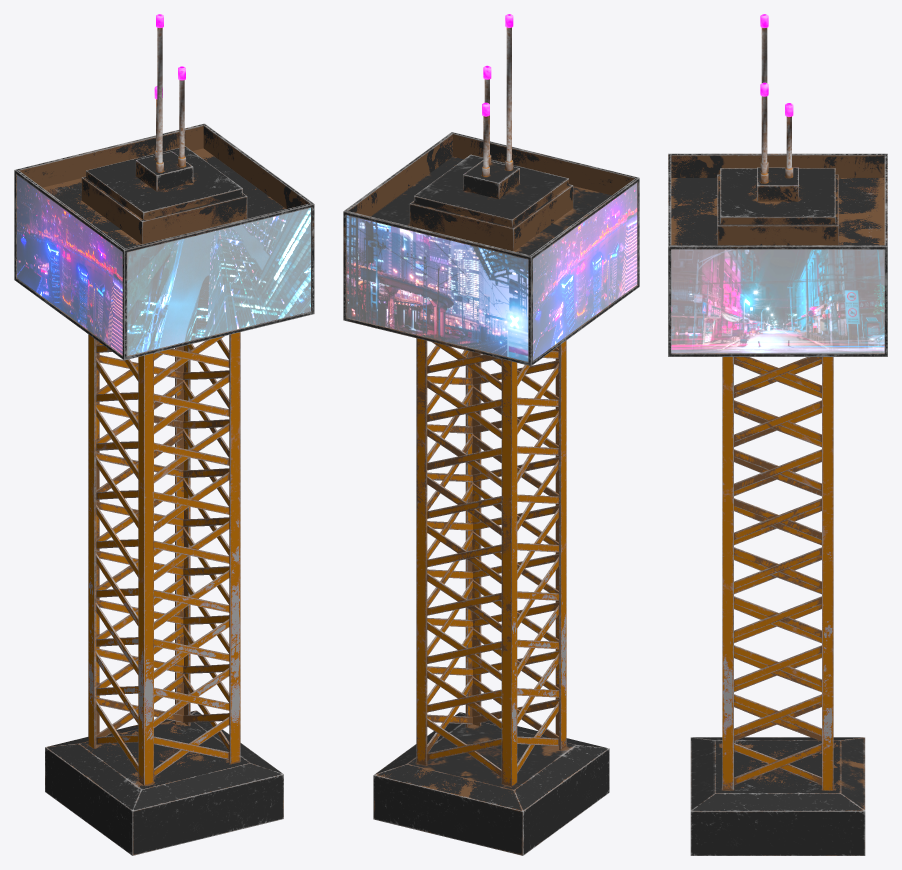
File: SM_TowerA.fbx
3 renders of one model, left to right at view 1: azimuth 30°, elevation 25°; view 2: azimuth 150°, elevation 25°; view 3: azimuth 270°, elevation 25°, orthographic.
Parts seen in each view (by area): view 1: SM_TowerA_LOD0; view 2: SM_TowerA_LOD0; view 3: SM_TowerA_LOD0.
Boxes of the visible parts, bbox=[...] form: SM_TowerA_LOD0: bbox=[14, 14, 314, 855]; SM_TowerA_LOD0: bbox=[343, 14, 639, 855]; SM_TowerA_LOD0: bbox=[668, 14, 887, 855].
Size of the model in its own units: 382 by 382 by 1532.
Materials: 3 (1 with a texture image).
